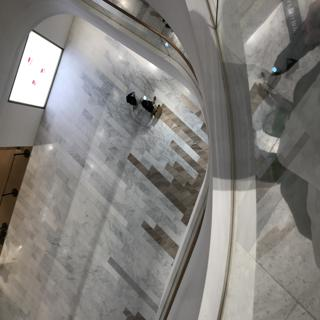person: (119, 87, 166, 127)
